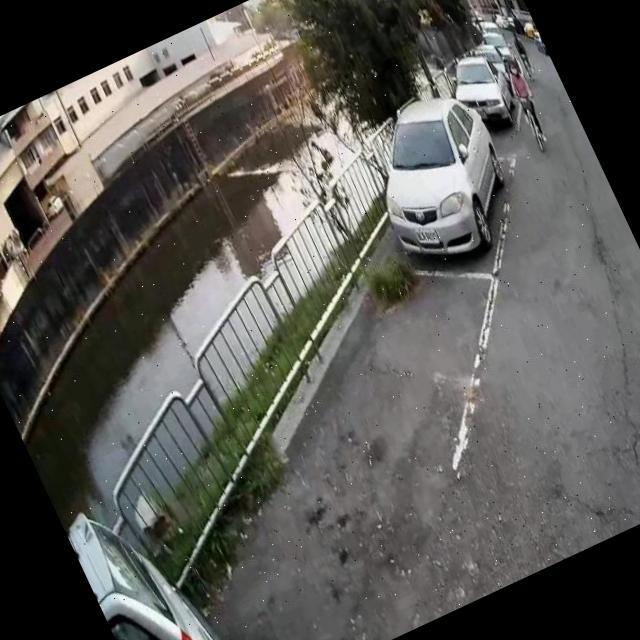person: (497, 55, 554, 146)
